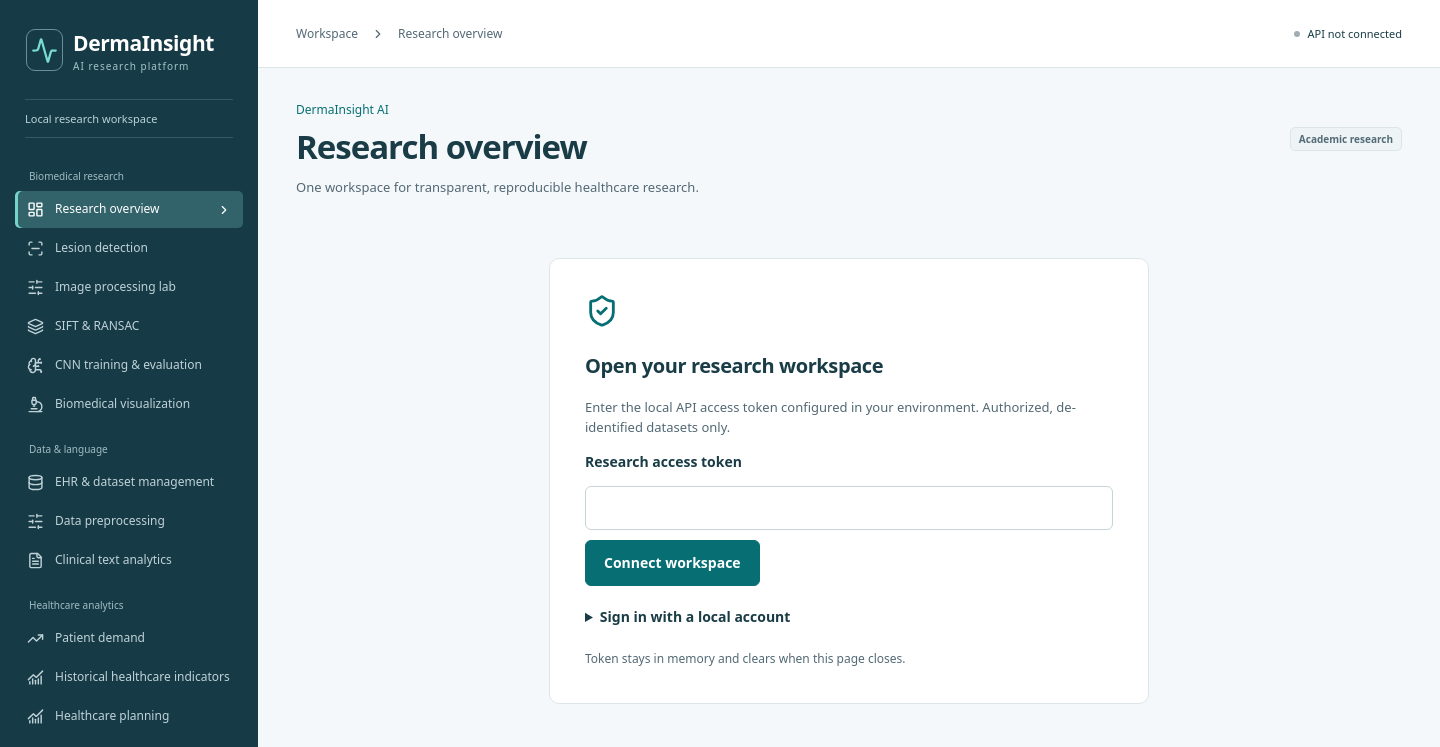
Test: shows actual zero counts and disables lesion prediction without a model
In the password field labelled "Research access token": [849, 508] box x1=585 y1=486 x2=1113 y2=530, type "isolated-component-test-token"
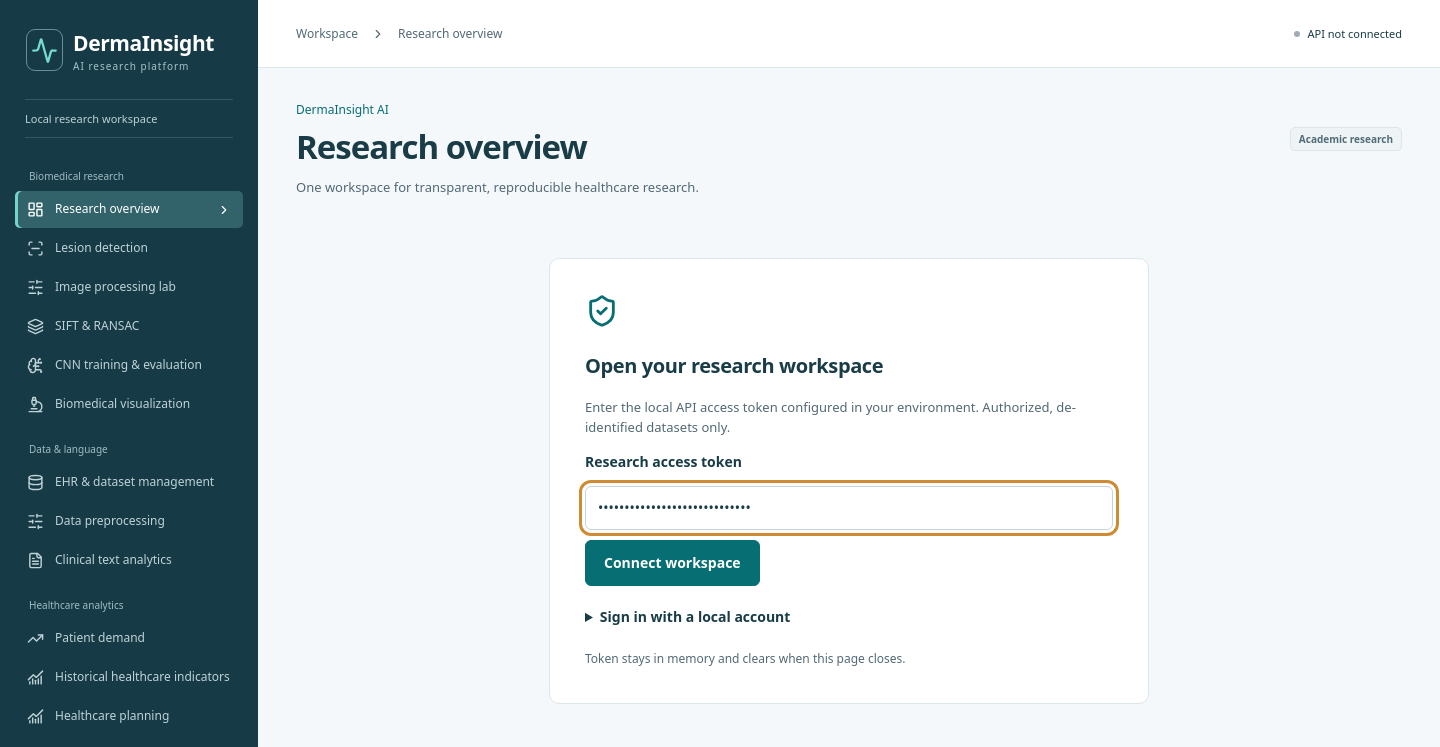
Click the button "Connect workspace": [672, 563] box x1=585 y1=540 x2=760 y2=586
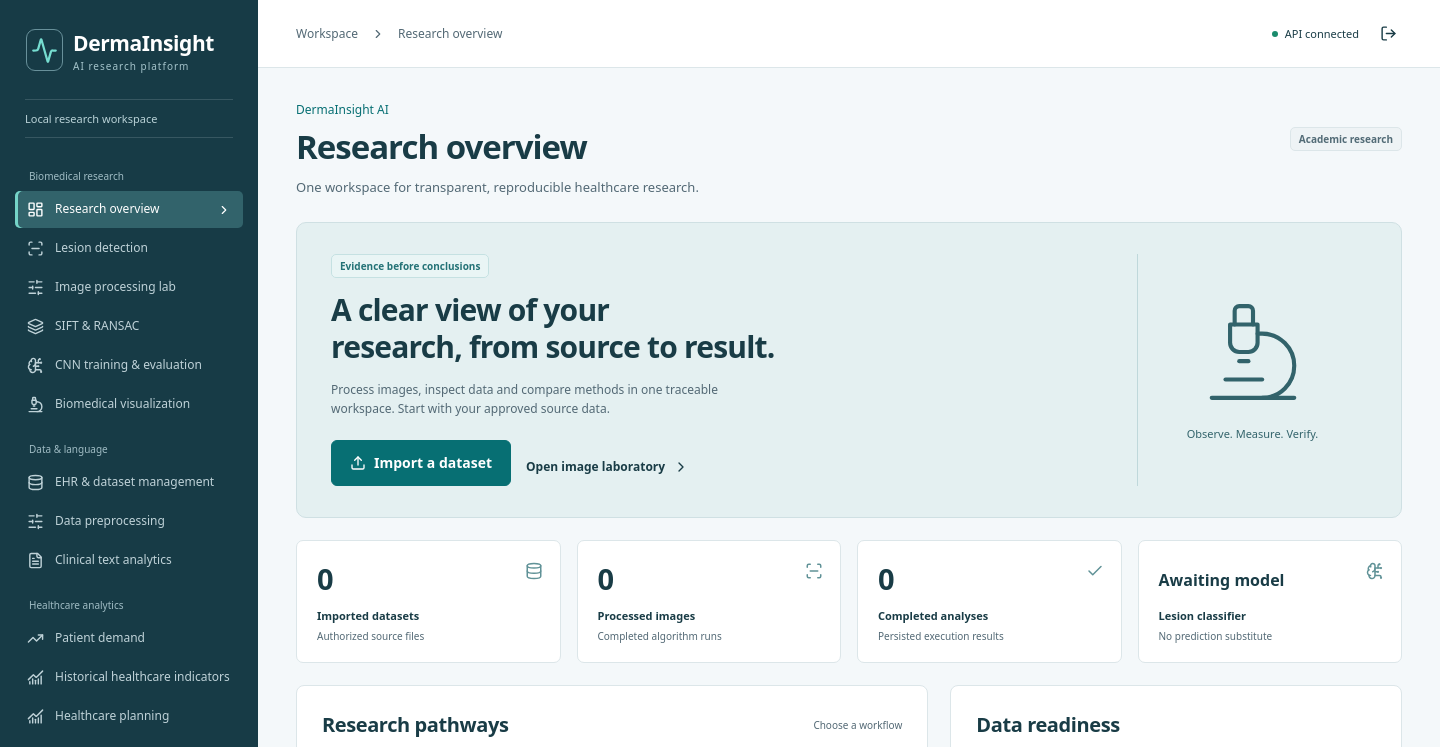
Expected: the text "API connected" is shown, x1=1272 y1=25 x2=1359 y2=42
Expected: the text "Awaiting model" is shown, x1=1158 y1=569 x2=1284 y2=591
Click the link "Lesion detection": [87, 248] box x1=27 y1=239 x2=148 y2=257
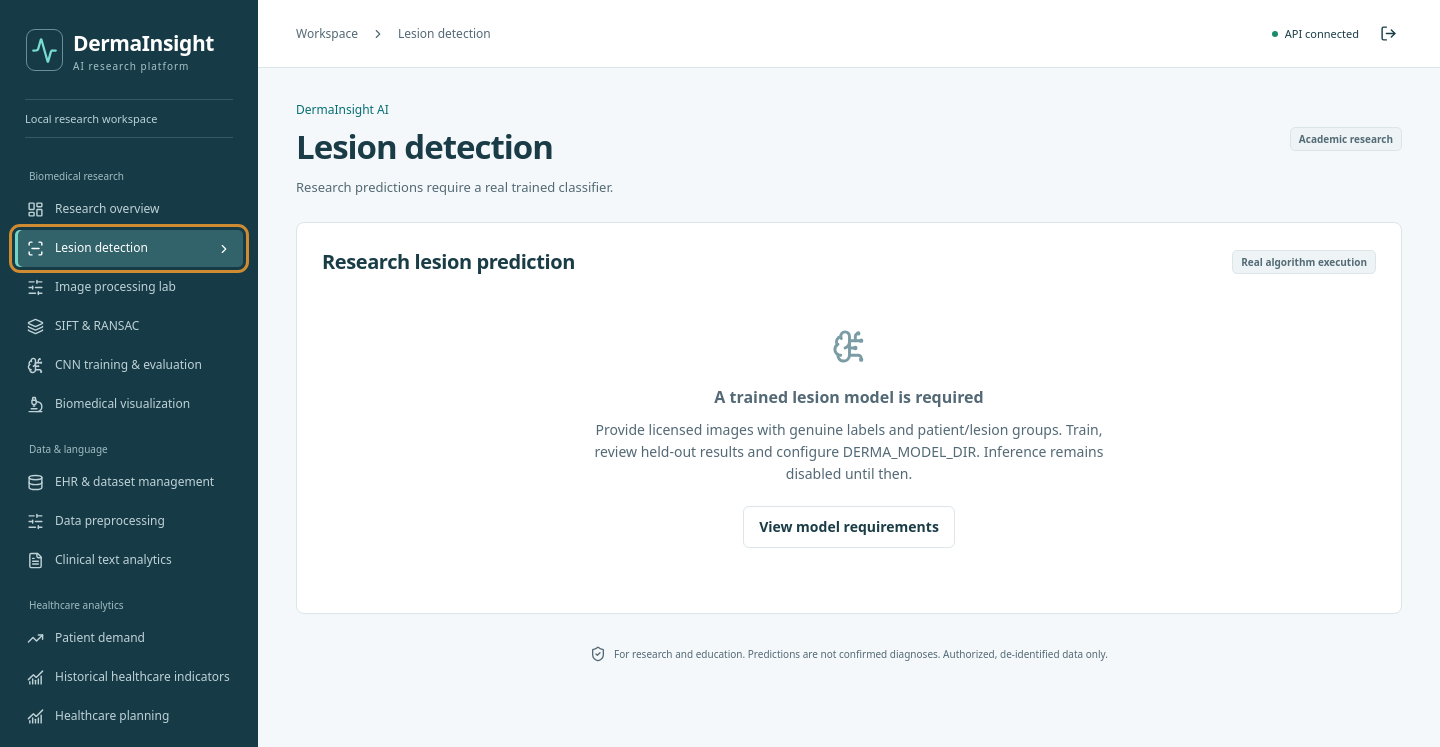
Expected: the heading "A trained lesion model is required" is shown, x1=714 y1=386 x2=984 y2=408
